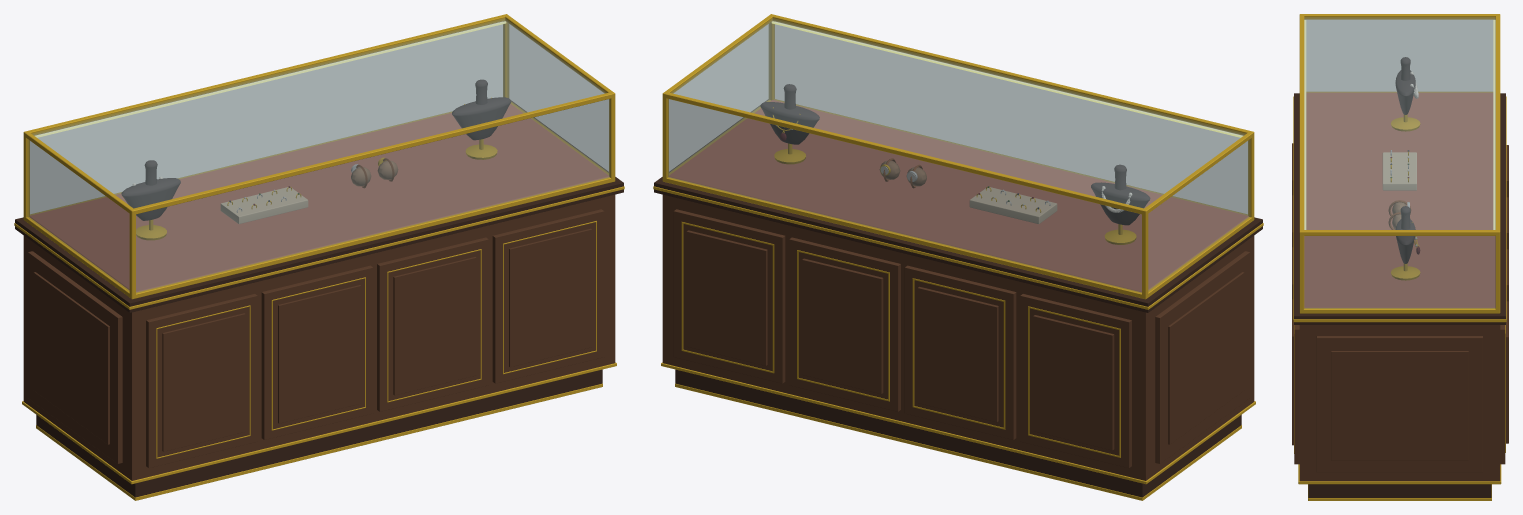
Rendered from prop_display_case_island_long.glb.
3 views of the same model, side by side, from view 1: azimuth 30°, elevation 25°; view 2: azimuth 150°, elevation 25°; view 3: azimuth 270°, elevation 25° (orthographic). The views are drawn at different scales.
Visible parts, largest first — view 1: Body, Glass, Display; view 2: Body, Glass, Display; view 3: Body, Glass, Display.
Part boxes in pixels (box(x1,y1,x2,y2)): Body: box(14, 14, 624, 500); Glass: box(27, 18, 609, 292); Display: box(121, 79, 511, 240); Body: box(653, 14, 1263, 500); Glass: box(668, 18, 1250, 292); Display: box(760, 84, 1150, 244); Body: box(1292, 14, 1508, 500); Glass: box(1304, 17, 1495, 308); Display: box(1382, 57, 1420, 280).
Bounding box in the file's own units: 1.85 × 1.05 × 0.756.
